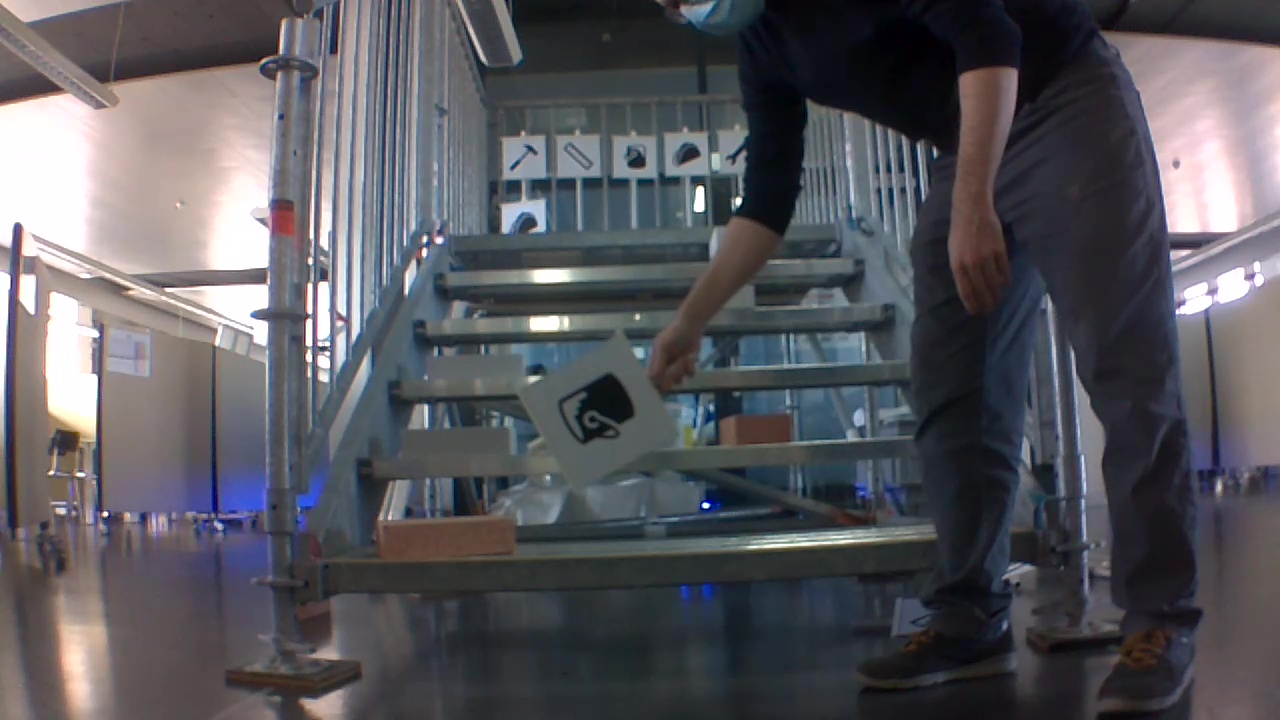brick: (379, 516, 515, 562), (402, 428, 515, 457), (429, 355, 522, 383), (722, 413, 791, 445)
bucket: (550, 369, 643, 447), (619, 140, 650, 171)
edge: (322, 530, 1040, 590)
hammer: (506, 142, 544, 172)
ruler: (557, 140, 599, 173)
taco: (671, 138, 703, 167), (507, 210, 541, 233)
